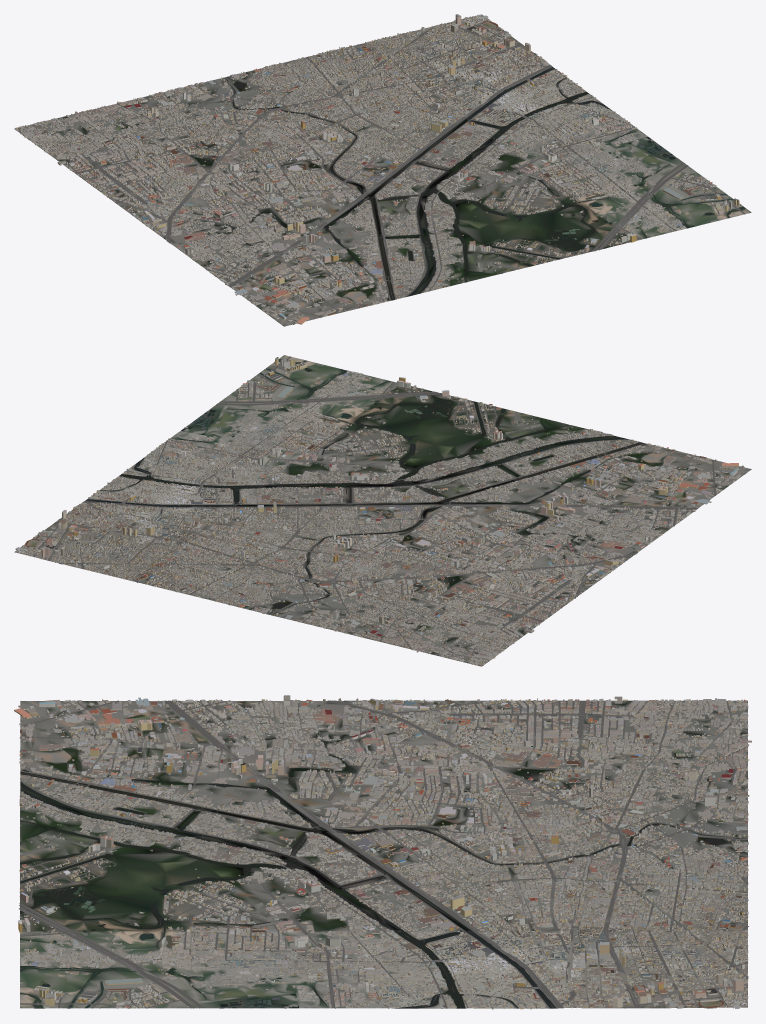
3 views of the same model, one above another, from view 1: azimuth 30°, elevation 25°; view 2: azimuth 150°, elevation 25°; view 3: azimuth 270°, elevation 25° (orthographic). The views are drawn at different scales.
Parts seen in each view (by area): view 1: buildings, ground, roads, water; view 2: buildings, ground, roads, water; view 3: buildings, ground, roads, water.
Part boxes in pixels (x1,y1,x2,y2): buildings: (14,14,742,324); ground: (14,14,751,326); roads: (18,18,745,317); water: (156,67,745,300); buildings: (15,357,744,665); ground: (14,355,751,666); roads: (21,356,715,665); water: (82,359,645,609); buildings: (14,695,751,1009); ground: (20,700,747,1008); roads: (19,700,748,1008); water: (20,722,733,1008).
Bounding box in the file's own units: 5669 × 109 × 5681.
